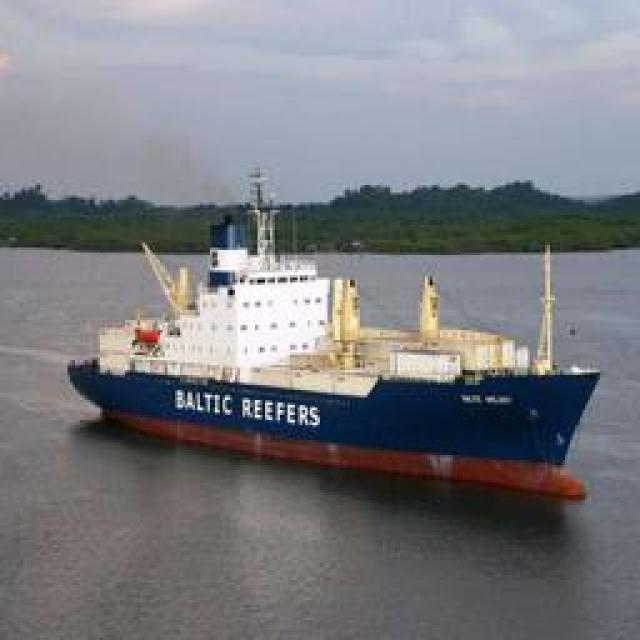CIV_Ship: (68, 172, 610, 490)
